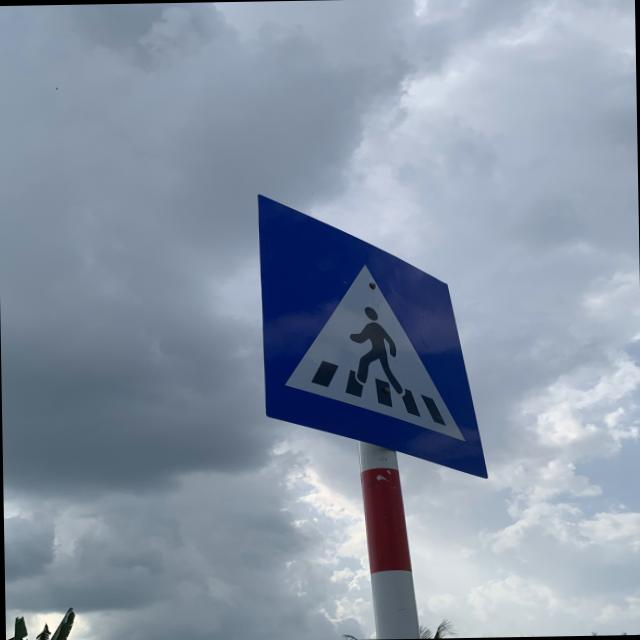Giao_Nhau_Duong_Uu_Tien: (258, 190, 488, 483)
